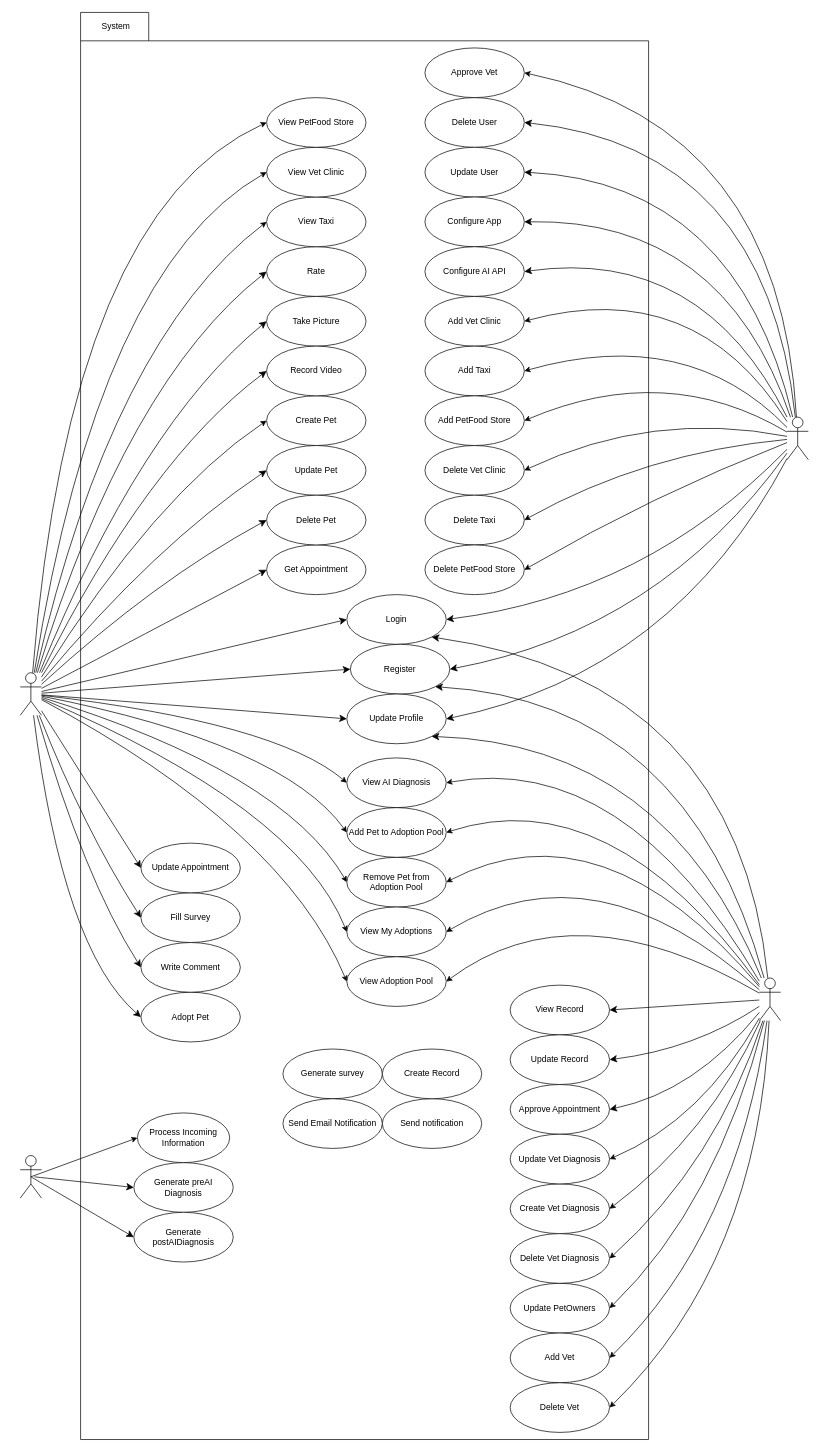
Some shapes in this 822 by 1452 pixel diagram are drawn without their labels. Here are the shapes that lost their labels. From the top down, the centre of each, then its label:
point (797, 438): Admin
point (31, 693): PetOwner
point (770, 999): Vet
point (31, 1176): AI
